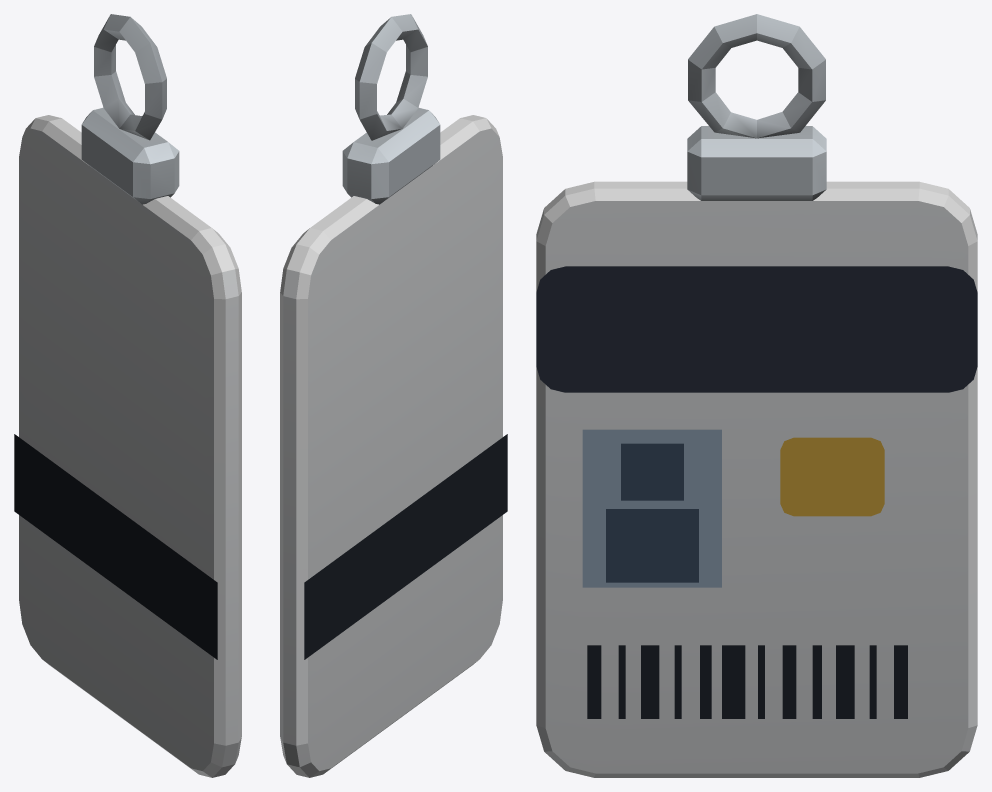
Rendered from keycard.glb.
3 views of the same model, side by side, from view 1: azimuth 30°, elevation 25°; view 2: azimuth 150°, elevation 25°; view 3: azimuth 270°, elevation 25° (orthographic). The views are drawn at different scales.
Visible parts, largest first — view 1: Card, Body; view 2: Card, Body; view 3: Card, Body.
Boxes of the visible parts, left/top/right/bottom form: Card: left=19, top=115, right=241, bottom=777; Body: left=14, top=14, right=217, bottom=659; Card: left=280, top=115, right=502, bottom=777; Body: left=304, top=14, right=507, bottom=659; Card: left=536, top=181, right=977, bottom=777; Body: left=536, top=14, right=977, bottom=718.
Size of the model in its own units: 0.05 by 0.7226 by 0.38.
